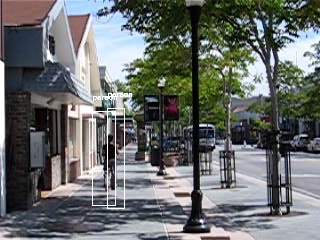person: (102, 134, 121, 191), (101, 134, 120, 191), (103, 134, 122, 191), (102, 133, 121, 190), (102, 135, 121, 192)
target_negative: (28, 16, 220, 149), (236, 5, 296, 186), (25, 123, 129, 155), (159, 187, 237, 220), (310, 3, 313, 222), (210, 175, 289, 179)
